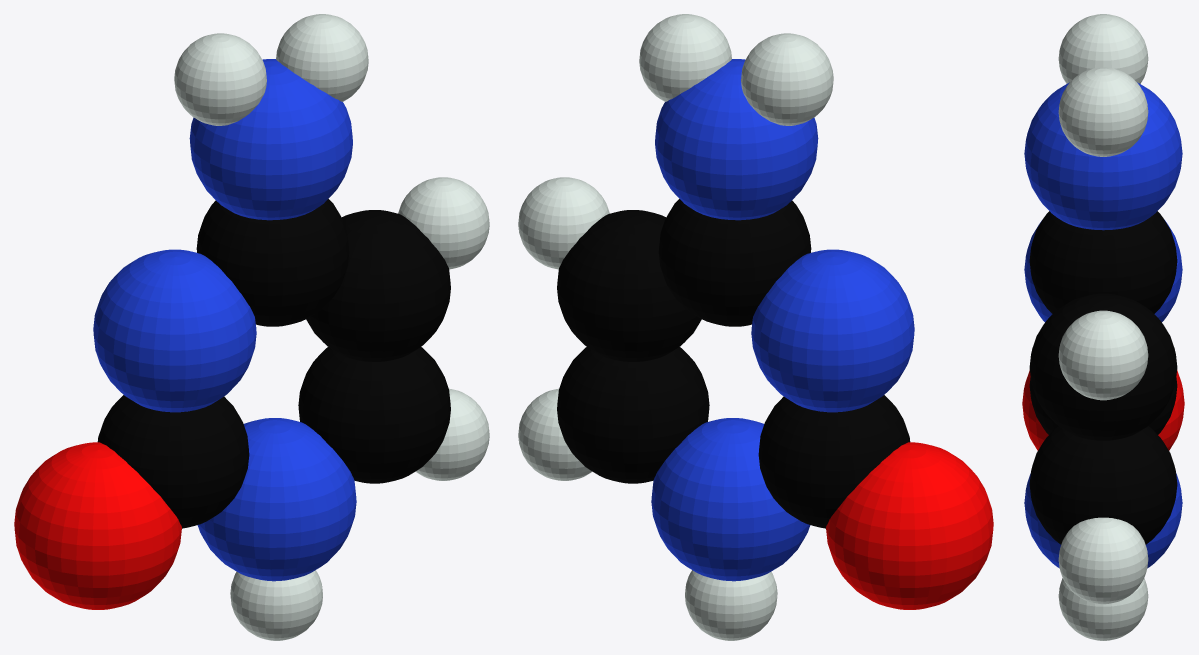
The model's file is Citosina.glb.
The picture shows the model from 3 angles, left to right: view 1: azimuth 30°, elevation 25°; view 2: azimuth 150°, elevation 25°; view 3: azimuth 270°, elevation 25°; orthographic projection. The views are drawn at different scales.
Visible parts, largest first — view 1: Citosina.001; view 2: Citosina.001; view 3: Citosina.001.
Boxes of the visible parts, x1,y1,x2,y2 form: Citosina.001: (14, 14, 489, 640); Citosina.001: (518, 14, 993, 640); Citosina.001: (1022, 14, 1184, 640).
Bounding box in the file's own units: 1.91 × 2.44 × 0.6073.
